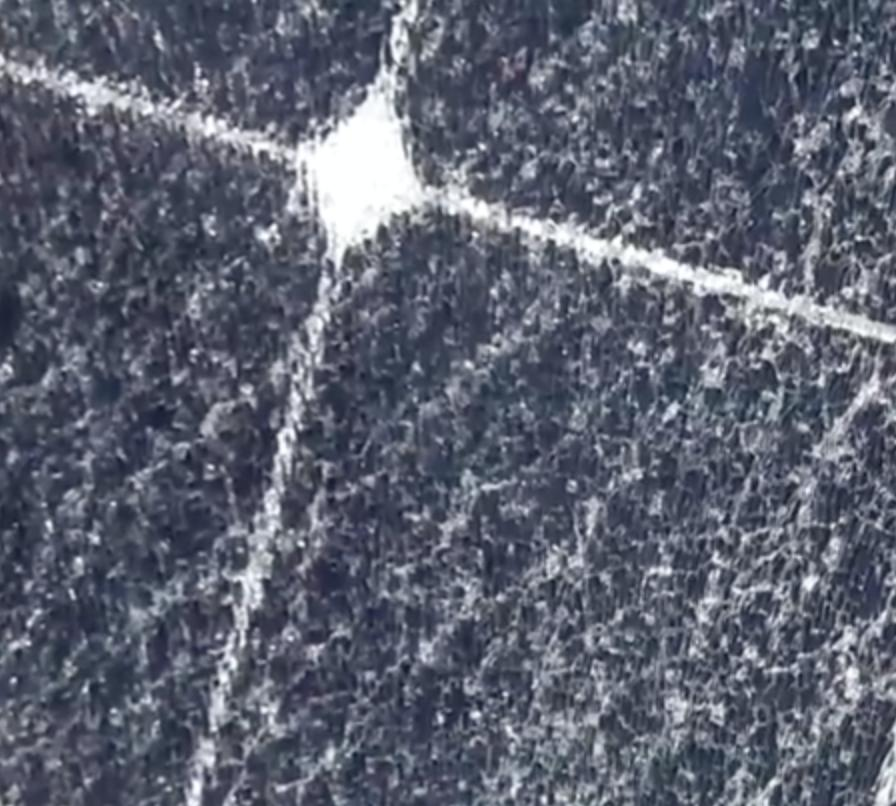Crack: (0, 0, 890, 804)
